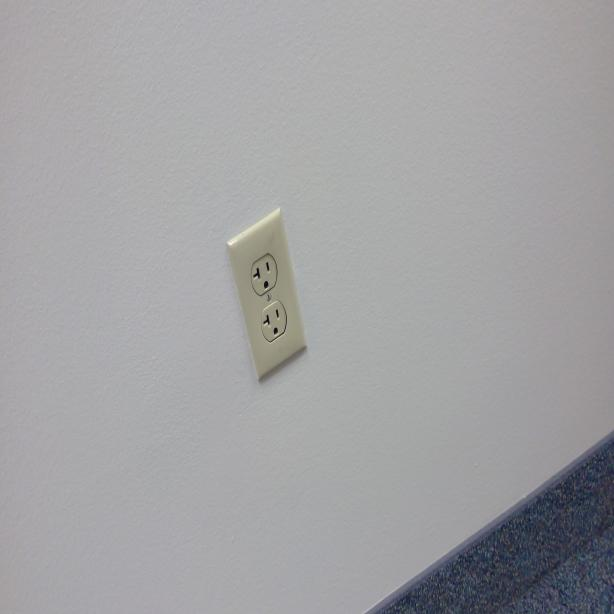typeb: (260, 303, 286, 340), (250, 255, 276, 289)
